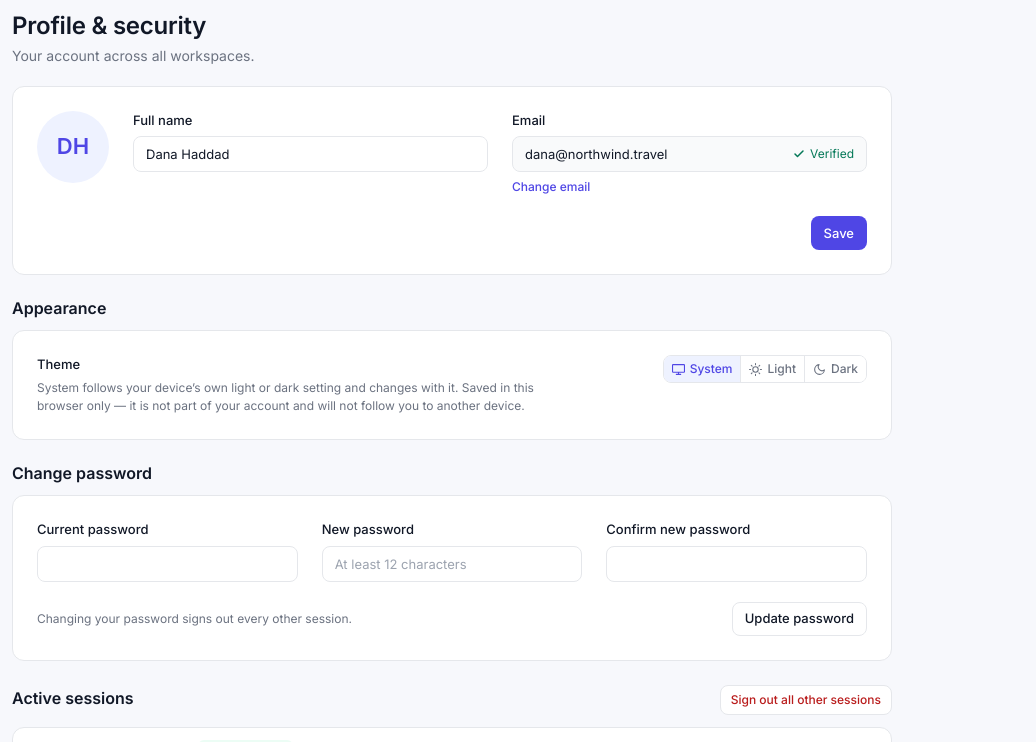
Test case: the profile page (J5) › refuses a password change that does not confirm, and says so on the field
The image size is (1036, 742).
Type "old-password-1" into the password field labelled "Current password".
click(167, 564); type("old-password-1")  # box [37,546,298,582]
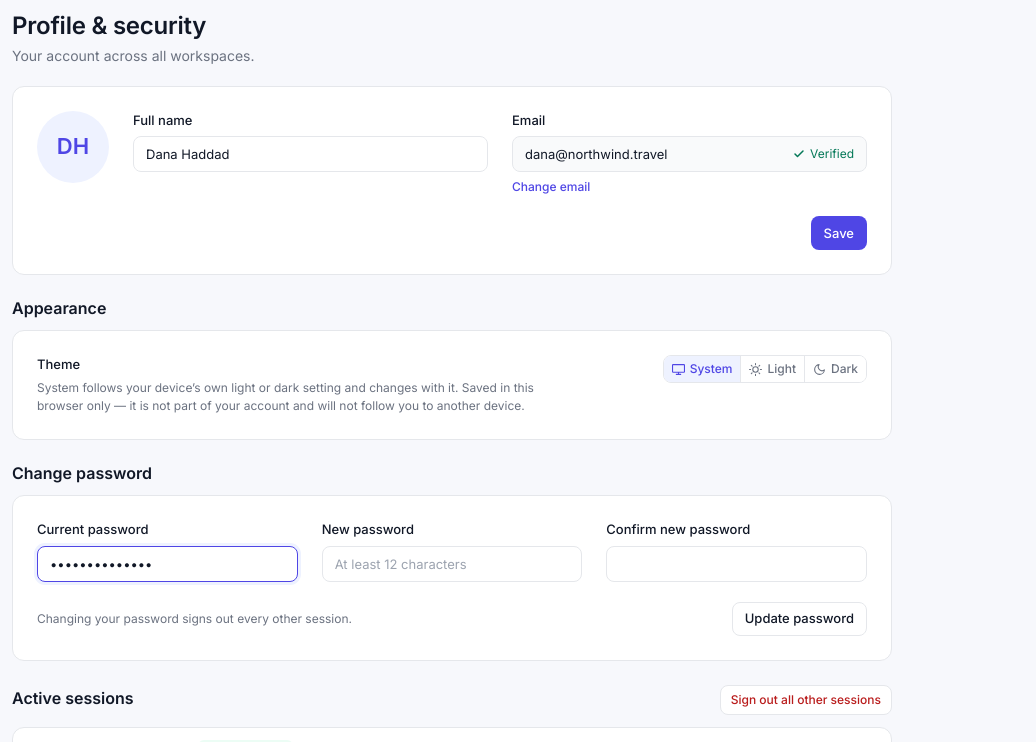
Type "a-long-enough-one" into the password field labelled "New password".
click(452, 564); type("a-long-enough-one")  # box [322,546,582,582]
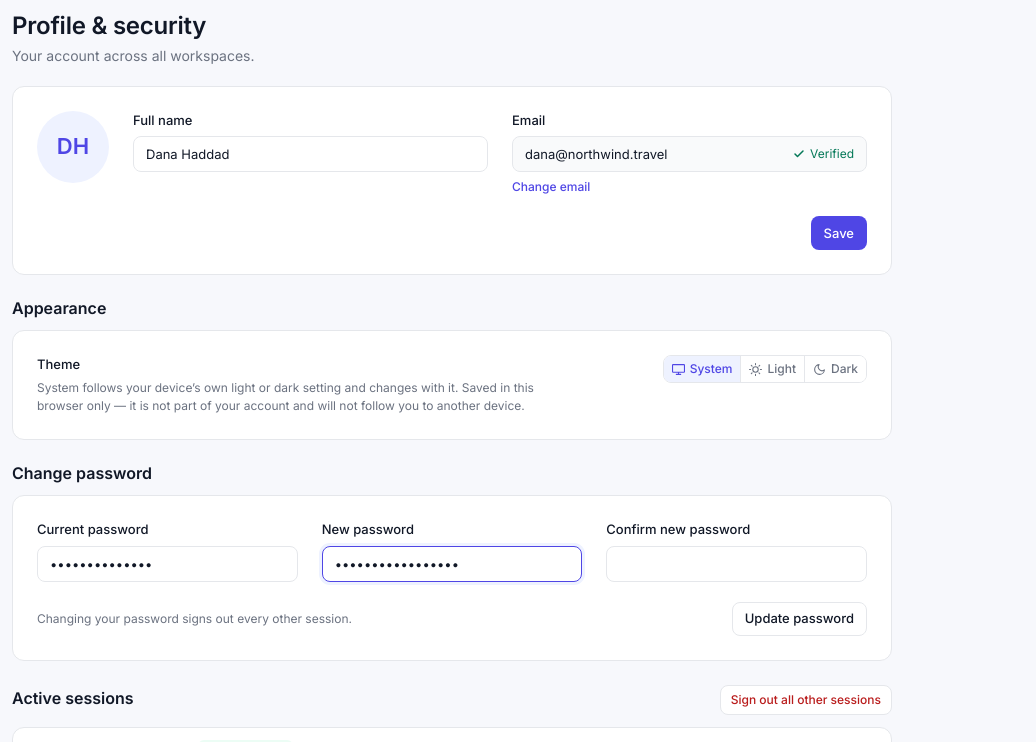
Type "a-different-one!" into the password field labelled "Confirm new password".
click(737, 564); type("a-different-one!")  # box [606,546,867,582]
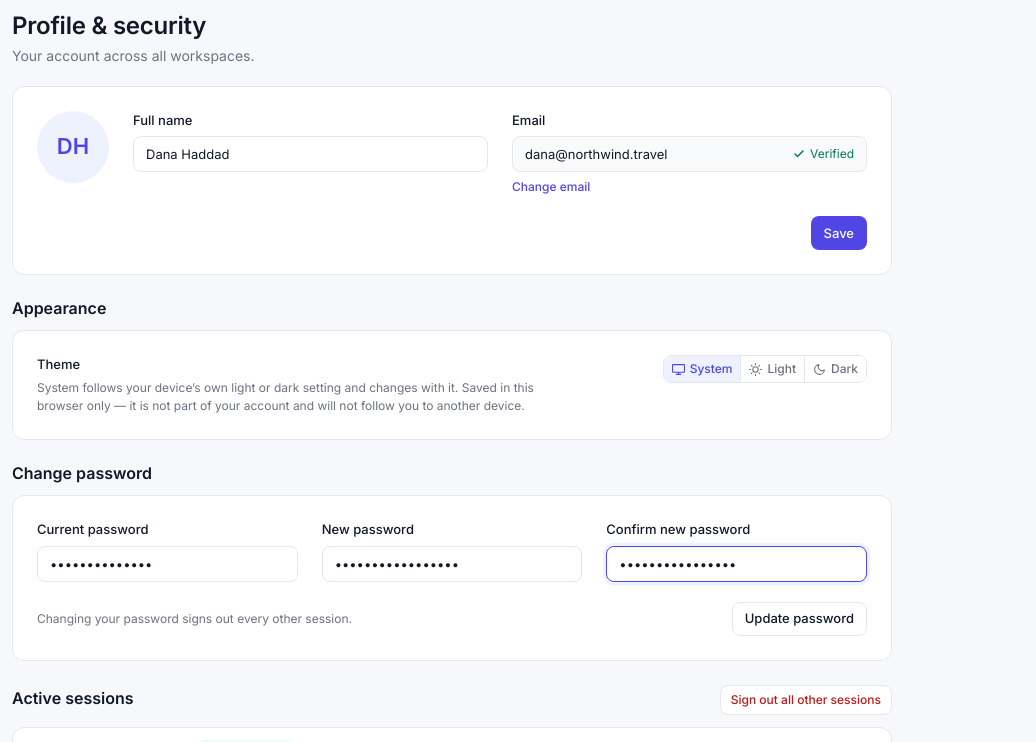
Click the button "Update password".
click(799, 619)  # box [732,602,867,636]
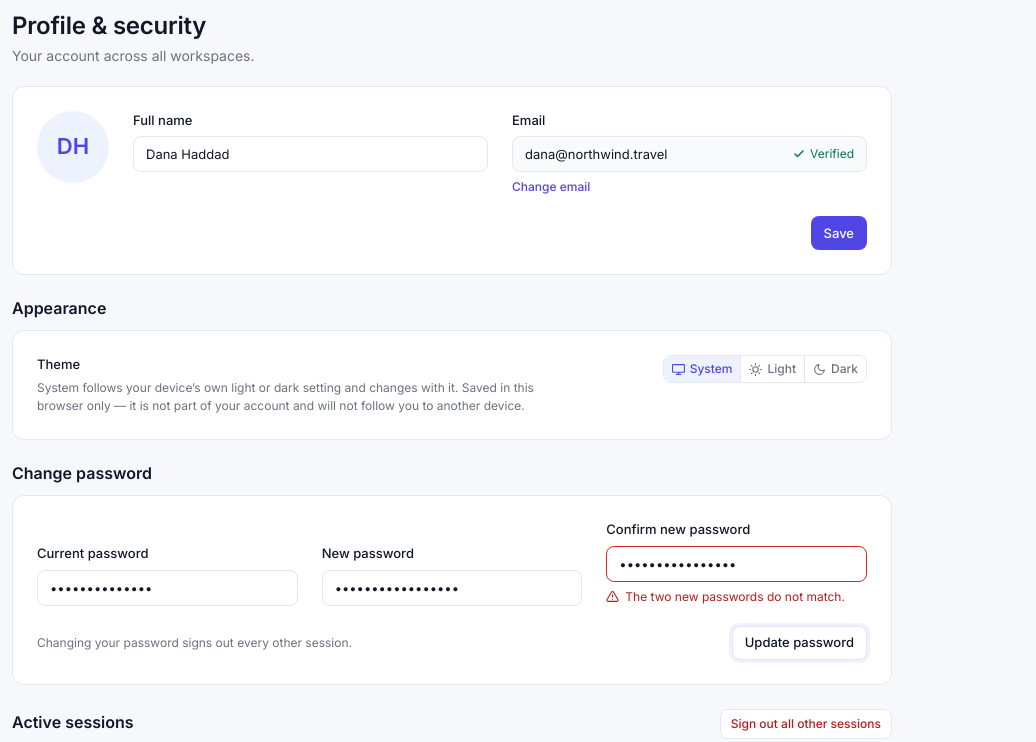
expect the text "The two new passwords do not match." is shown: met, box [606,588,867,606]
